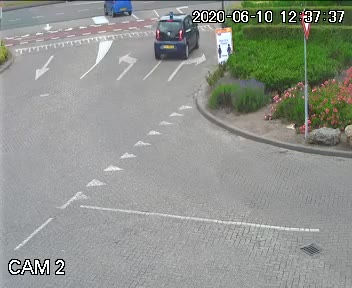car: (148, 13, 198, 64), (99, 0, 132, 18)
